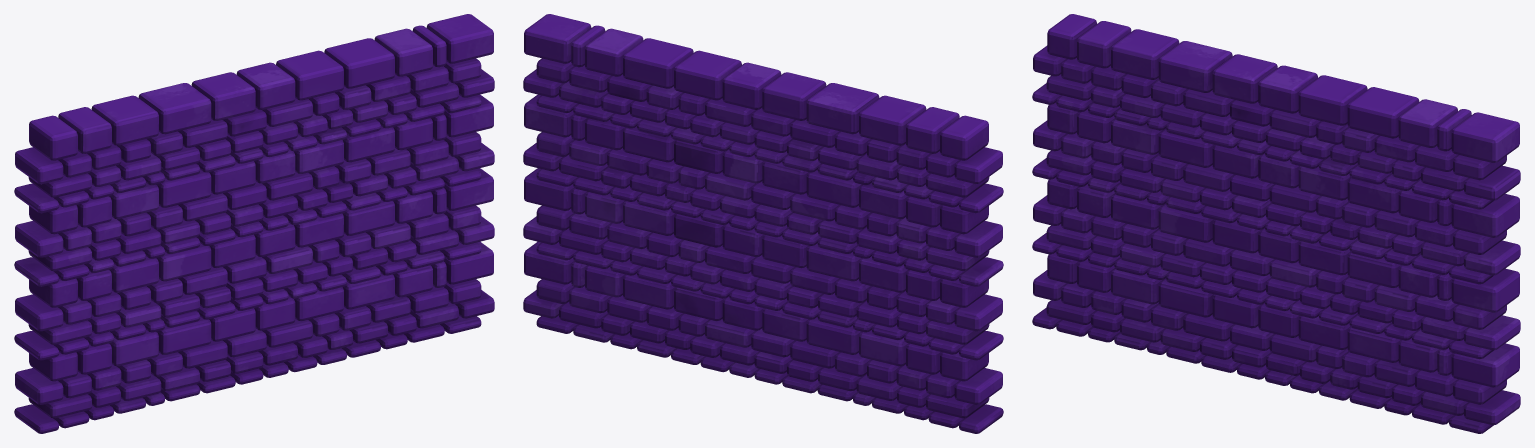
Rendered from Wall_Errada.fbx.
3 views of the same model, side by side, from view 1: azimuth 30°, elevation 25°; view 2: azimuth 150°, elevation 25°; view 3: azimuth 330°, elevation 25° (orthographic).
Parts seen in each view (by area): view 1: Wall.001; view 2: Wall.001; view 3: Wall.001.
Part boxes in pixels (x1=…): Wall.001: x1=14, y1=14, x2=494, y2=433; Wall.001: x1=523, y1=14, x2=1003, y2=433; Wall.001: x1=1032, y1=14, x2=1520, y2=433.
Size of the model in its own units: 2050 by 1262 by 210.
Materials: 1 (1 with a texture image).
